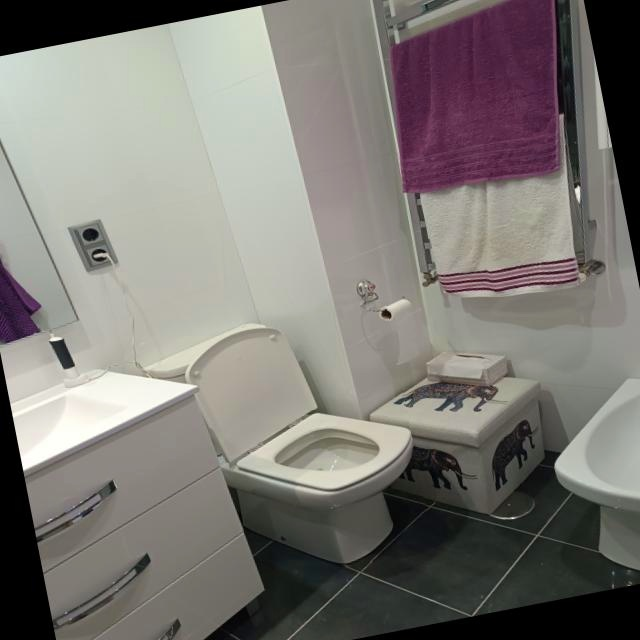cabinet: (25, 406, 265, 640)
table: (145, 324, 414, 566)
wardrobe: (10, 370, 199, 478)
